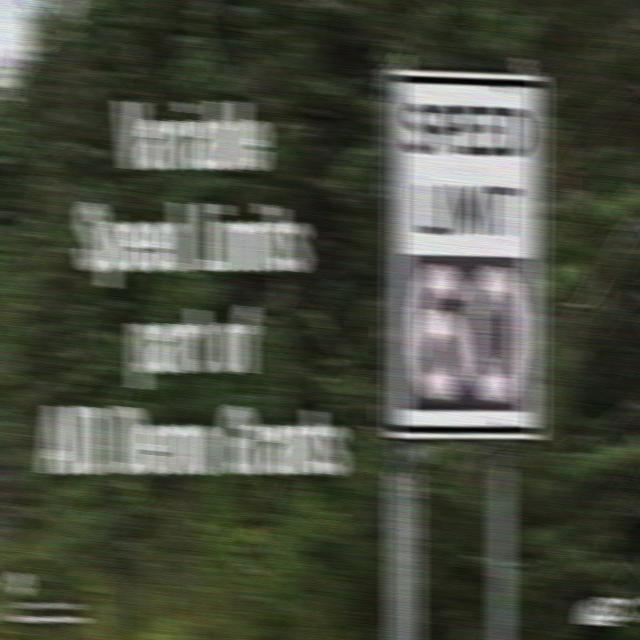speedLimit60: (382, 65, 548, 452)
